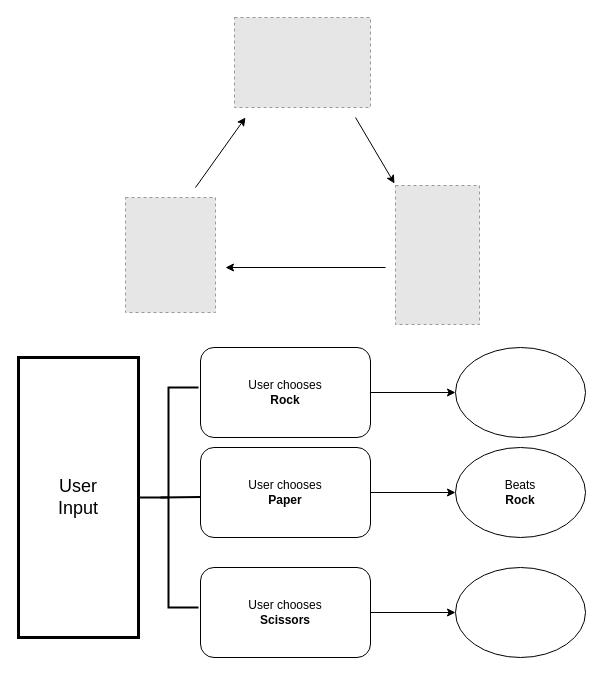
Image size: 603x675. Some labels were removed from this diagram. Grey dashed boxes stand in for pictures. Each missing label, with the box of its shape:
Beats Paper: (454, 566, 586, 658)
Beats Scissors: (454, 346, 586, 438)
